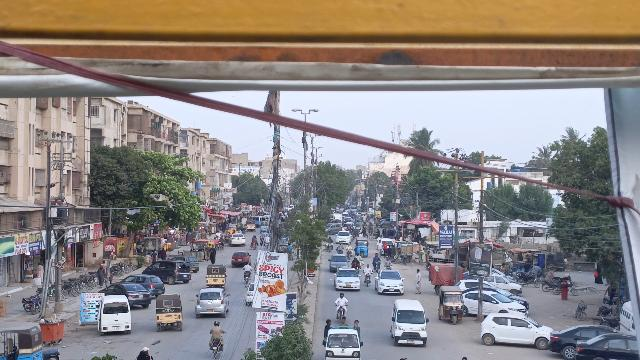Bike: (573, 300, 589, 320), (211, 338, 222, 359), (336, 305, 348, 323), (363, 273, 372, 288), (242, 273, 251, 286)
Car: (479, 310, 551, 350), (550, 320, 604, 358), (463, 288, 527, 317), (573, 333, 640, 360), (100, 281, 150, 309), (143, 260, 193, 284), (194, 286, 230, 317), (124, 271, 165, 298), (374, 268, 406, 295), (331, 267, 361, 289), (328, 252, 349, 271), (231, 249, 251, 267)
Person: (207, 320, 227, 340), (413, 266, 424, 296), (333, 292, 349, 308), (96, 261, 106, 286), (242, 262, 254, 275), (363, 264, 373, 275)
Rickshaw: (0, 323, 44, 360), (436, 283, 466, 327), (154, 294, 183, 331), (204, 264, 230, 289), (353, 235, 370, 257)
Suzuki: (320, 315, 366, 360)
Van: (389, 297, 429, 347), (96, 294, 132, 335)
